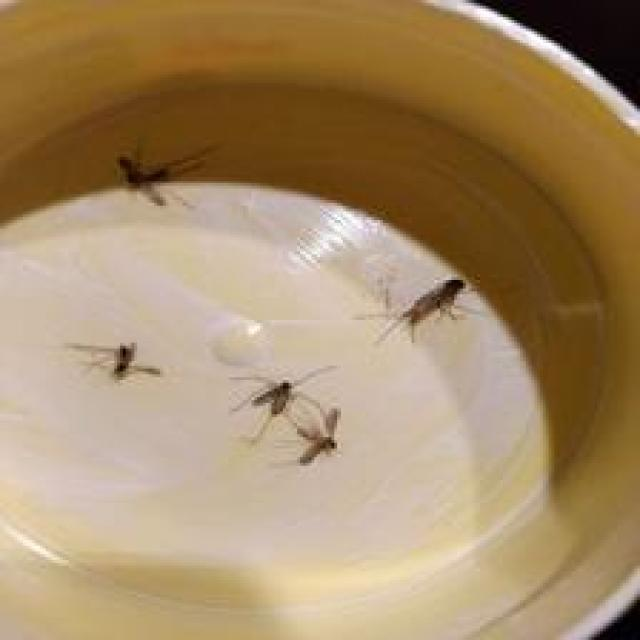Culex: (114, 140, 217, 209)
